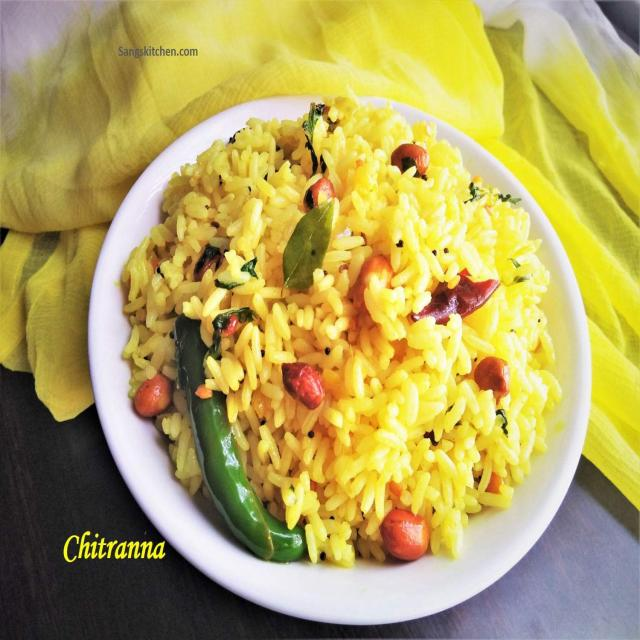lemon rice: (111, 76, 569, 583)
